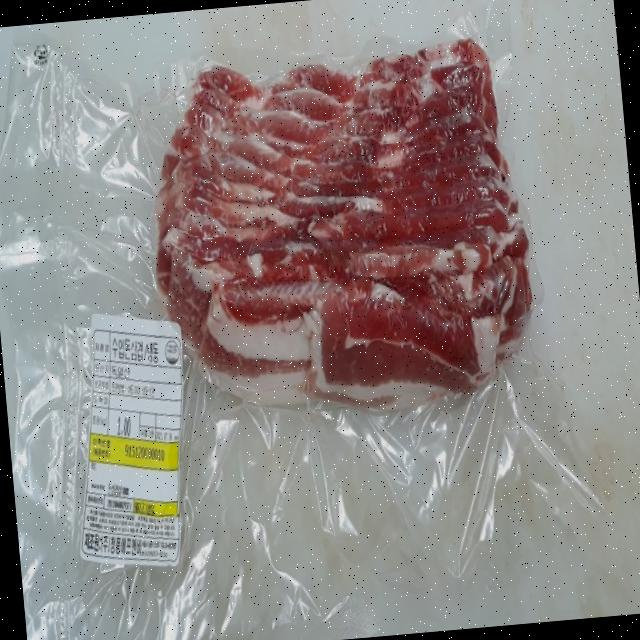meat: (130, 0, 561, 438)
